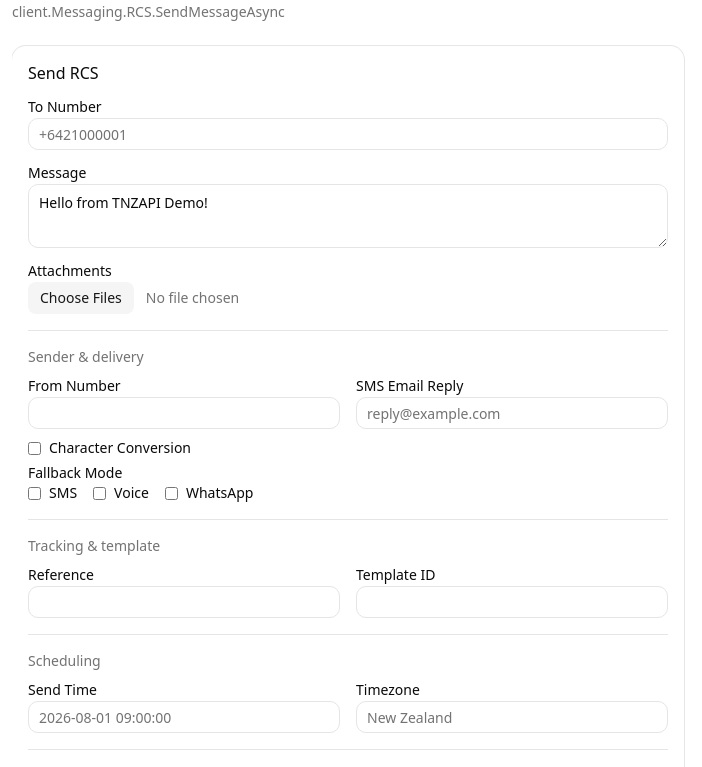
RcsPage › renders the response and pre-fills Message ID in the Check Status card on success
Type "+64211234567" into the field labelled "To Number". click: (348, 134)
box: [28,118,668,150]
(page scrolled)
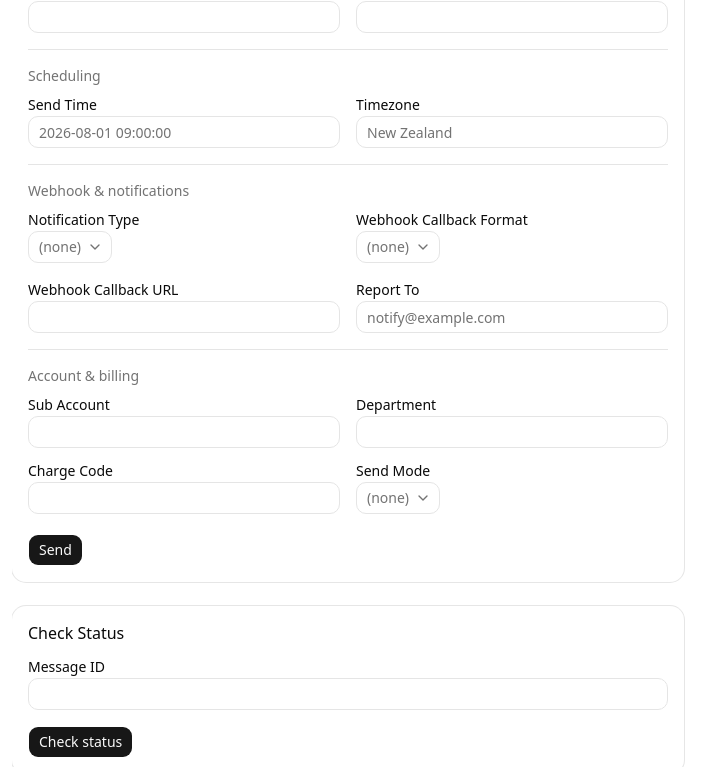
Click the button "Send". click: (55, 550)
box: [28,534,83,566]
(page scrolled)
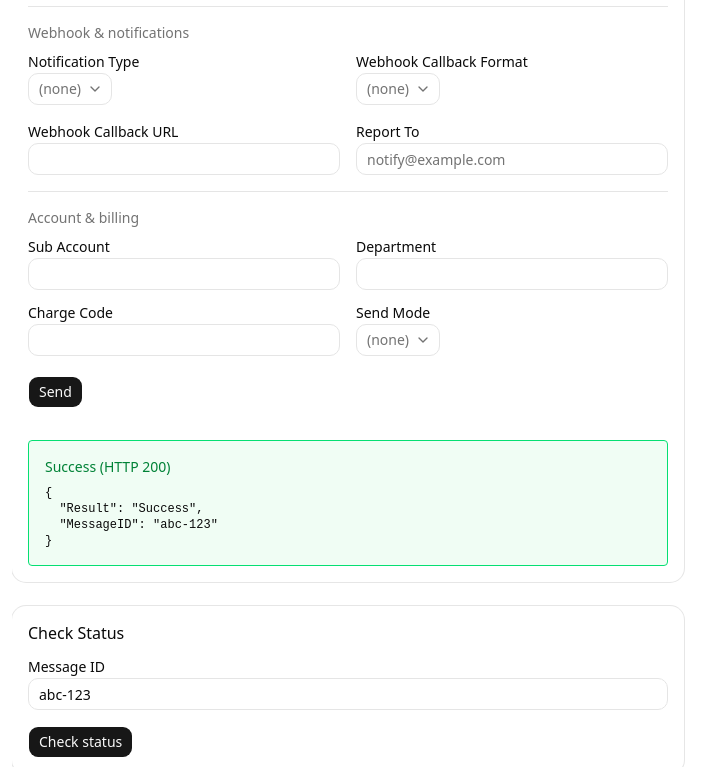
Expected: the text "Success (HTTP 200)" is shown, [45,457,170,476]
Expected: the field labelled "Message ID" holds "abc-123", [28,678,668,710]
